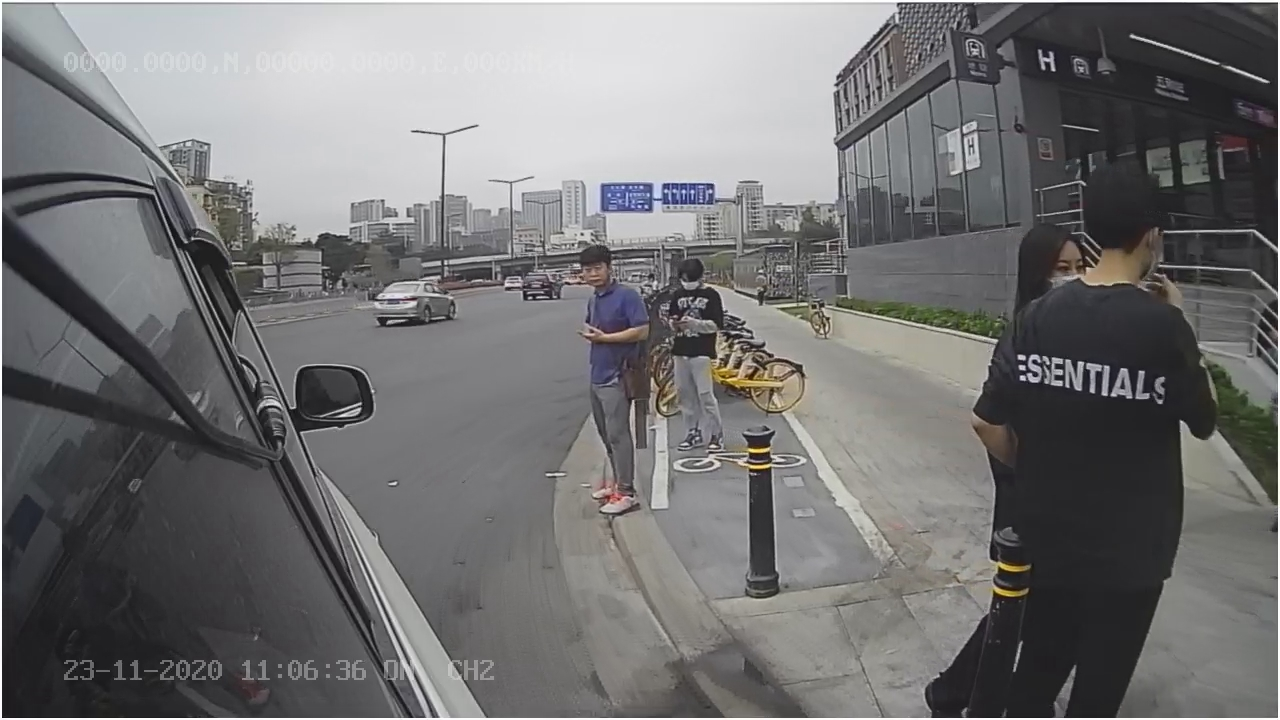person: (564, 242, 648, 519)
